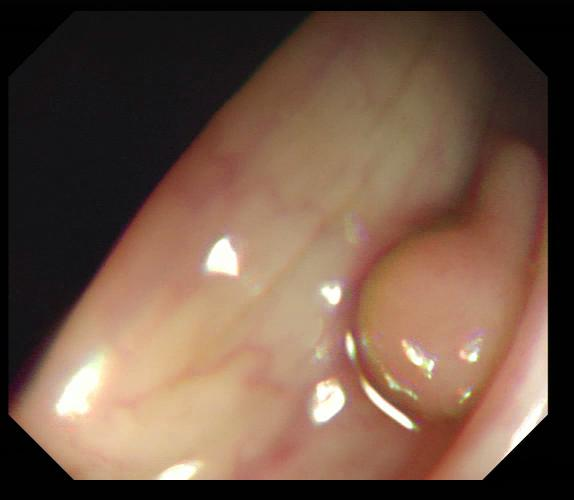polyp: (351, 139, 543, 422)
